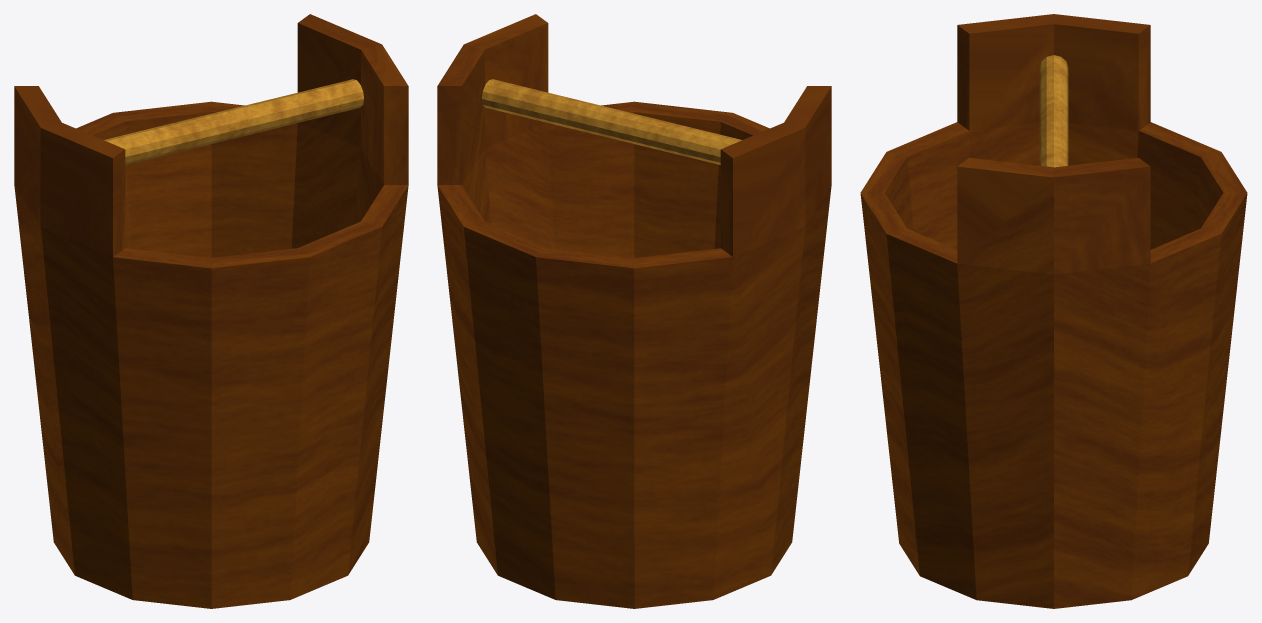
The model's file is Cubo.fbx.
3 views of the same model, side by side, from view 1: azimuth 30°, elevation 25°; view 2: azimuth 150°, elevation 25°; view 3: azimuth 270°, elevation 25° (orthographic).
Parts seen in each view (by area): view 1: Cubo; view 2: Cubo; view 3: Cubo.
Boxes of the visible parts, <box> form: Cubo: <box>14,14,408,608</box>; Cubo: <box>437,14,831,608</box>; Cubo: <box>860,14,1247,608</box>.
Size of the model in its own units: 133 by 169 by 133.
Materials: 1 (1 with a texture image).
